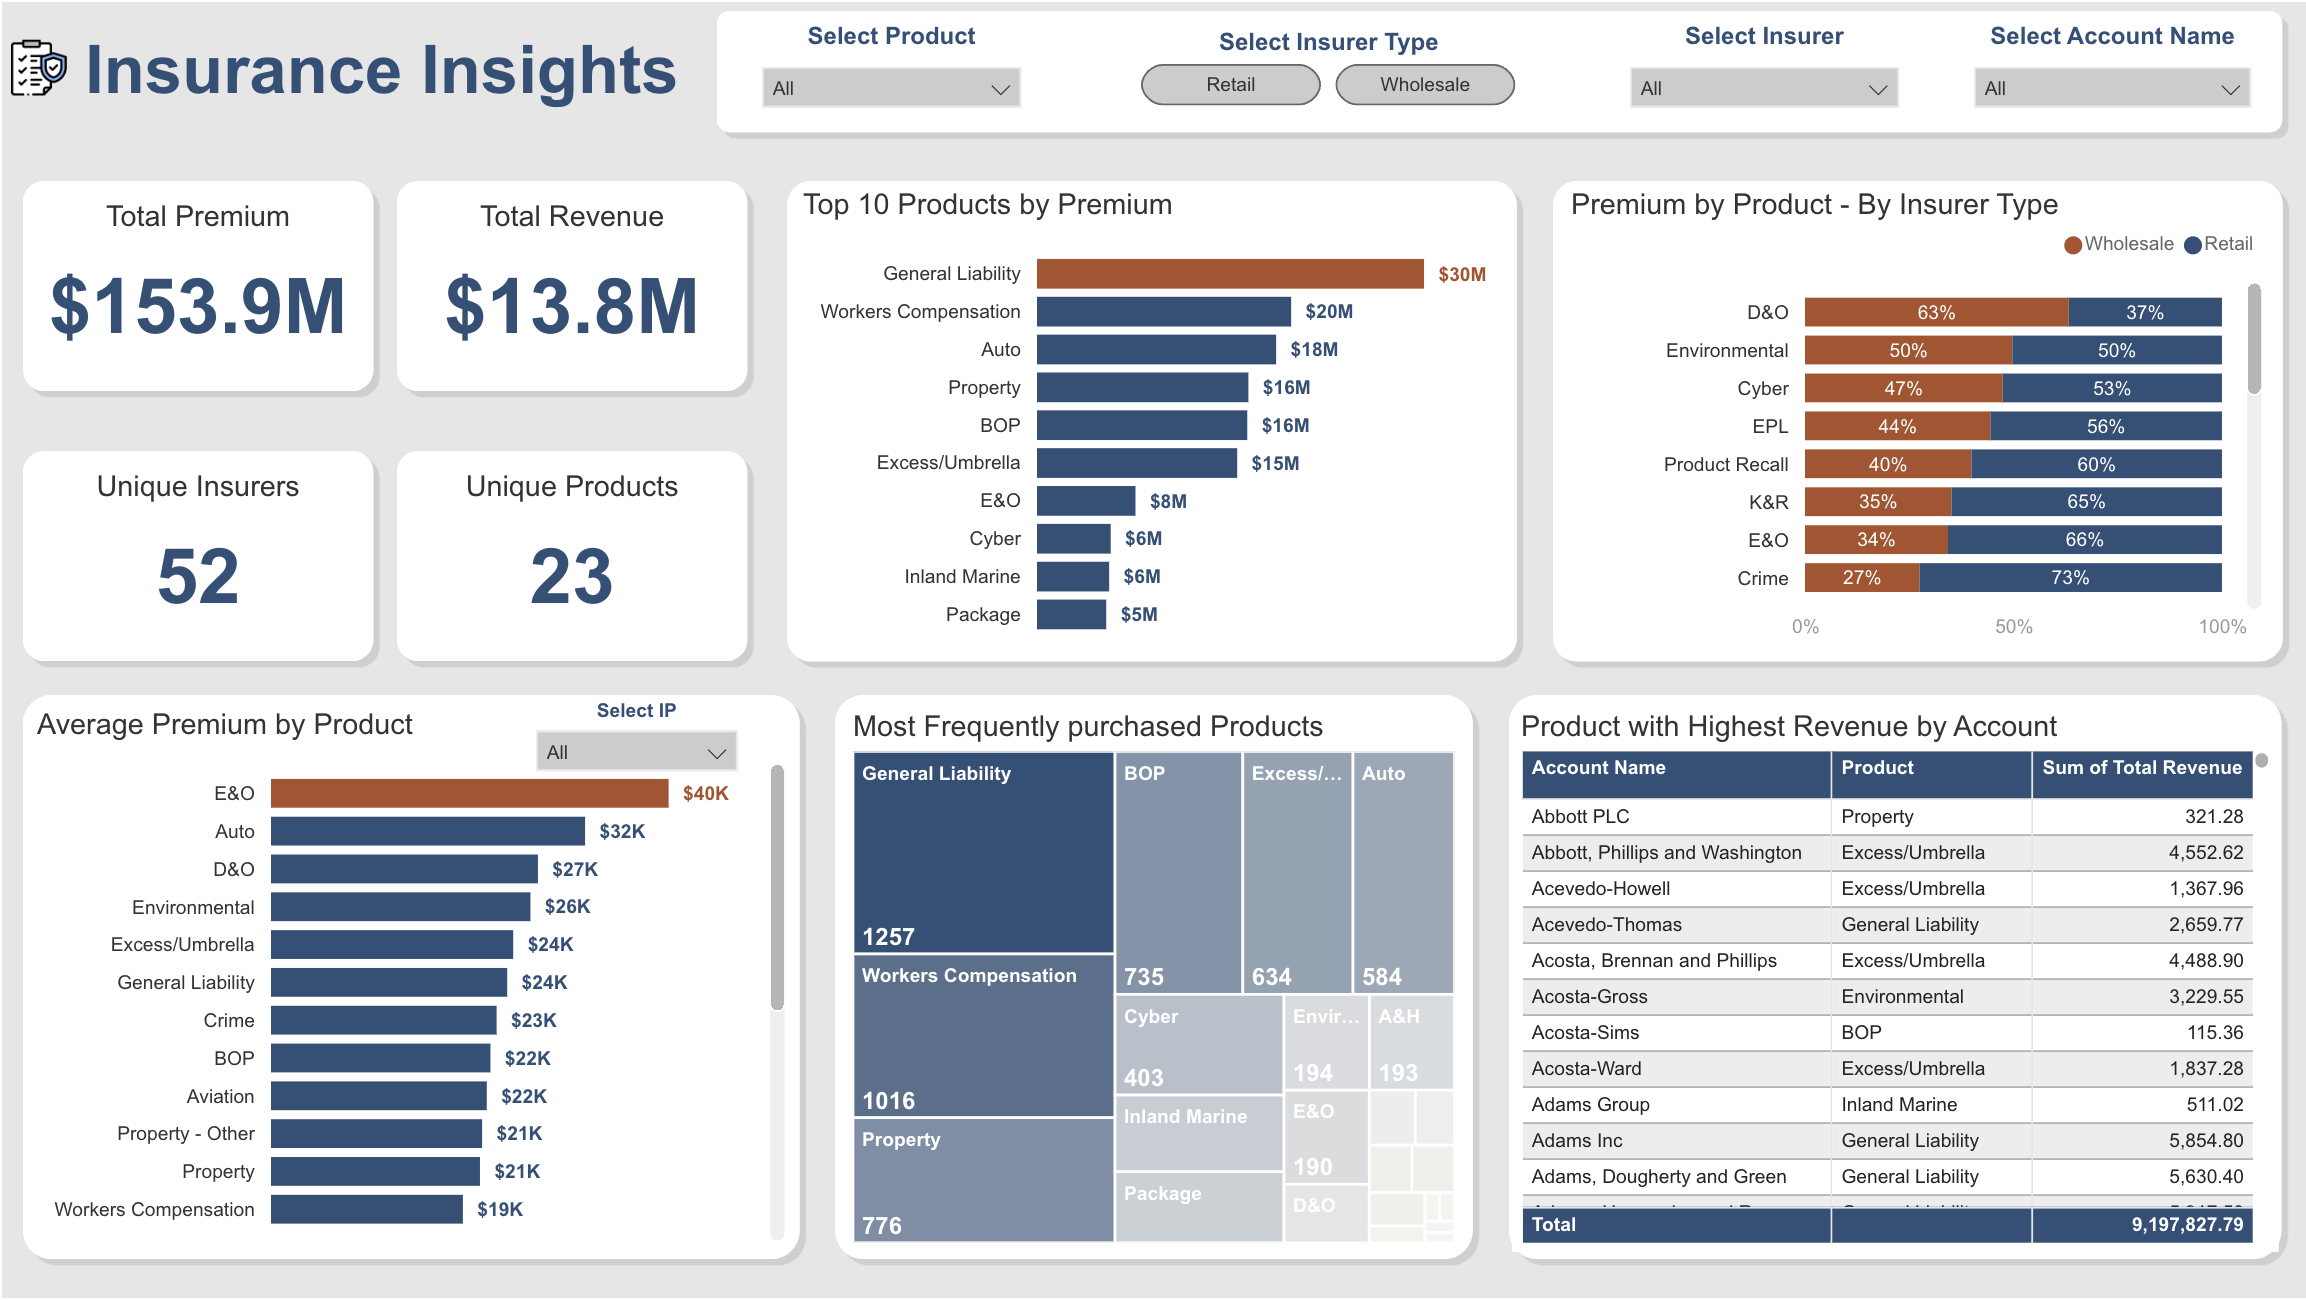

The dashboard page shown, as its layout file describes it:
{"tool":"powerbi","page":{"name":"Insurance Insights","canvas":[1280,720],"ordinal":0},"visuals":[{"type":"shape","box":[392.2,0,879.5,77.3],"z":0},{"type":"textbox","box":[41.1,10.6,354.6,56.7],"z":1000},{"type":"image","box":[0,14.9,41.1,44],"z":2000},{"type":"shape","box":[6.2,94.4,204.6,126.7],"z":3000},{"type":"shape","box":[214.2,94.4,204.6,126.7],"z":4000},{"type":"shape","box":[6.2,244.8,204.6,126.7],"z":5000},{"type":"shape","box":[214.2,244.8,204.6,126.7],"z":6000},{"type":"shape","box":[431.4,94.4,415.5,277],"z":7000},{"type":"card","title":"Total Premium ","fields":{"Values":["Dataset.Premium"]},"box":[17.3,109.7,182.3,95.3],"z":8000},{"type":"card","title":"Total Revenue","fields":{"Values":["Dataset.Revenue"]},"box":[225.4,109.7,182.3,95.3],"z":9000},{"type":"card","title":"Unique Insurers","fields":{"Values":["Dataset.Insurer"]},"box":[17.3,260.1,182.3,95.3],"z":10000},{"type":"card","title":"Unique Products","fields":{"Values":["Dataset.Product"]},"box":[225.4,260.1,182.3,95.3],"z":11000},{"type":"clusteredBarChart","title":"Top 10 Products by Premium","fields":{"Category":["Dataset.Product"],"Y":["Dataset.Premium"]},"box":[440.5,103.5,392.2,258.9],"z":12000},{"type":"advancedSlicerVisual","title":"Select Insurer Type","fields":{"Values":["Dataset.Insurer Type"]},"box":[628,14,218.7,48.7],"z":13000},{"type":"shape","box":[856.6,94.4,415.5,277],"z":14000},{"type":"hundredPercentStackedBarChart","title":"Premium by Product - By Insurer Type","fields":{"Category":["Dataset.Product"],"Series":["Dataset.Insurer Type"],"Y":["Dataset.Premium"]},"box":[866.7,103.5,393.6,258.9],"z":15000},{"type":"slicer","title":"Select Product","fields":{"Values":["Dataset.Product"]},"box":[412,10.7,164,52],"z":16000},{"type":"slicer","title":"Select Account Name","fields":{"Values":["Top Product per Account Filtered.Account Name"]},"box":[1086,10.7,174,52],"z":17000},{"type":"shape","box":[6.2,380.4,441.4,323.4],"z":18000},{"type":"shape","box":[457.6,380.4,364.2,323.4],"z":19000},{"type":"shape","box":[832.7,380.4,439.1,323.4],"z":20000},{"type":"clusteredBarChart","title":"Average Premium by Product","fields":{"Category":["Dataset.Product"],"Y":["Dataset.Premium"]},"box":[14,392.7,425.3,300.7],"z":21000},{"type":"tableEx","title":"Product with Highest Revenue by Account","fields":{"Values":["Top Product per Account Filtered.Account Name","Top Product per Account Filtered.Product","Top Product per Account Filtered.Total Revenue"]},"box":[838.9,392.8,426,301],"z":22000},{"type":"slicer","title":"Select IP","fields":{"Values":["Dataset.Industry Practice"]},"box":[286.7,387.3,132,42.7],"z":23000},{"type":"treemap","title":"Most Frequently purchased Products","fields":{"Group":["Dataset.Product"],"Values":["Dataset.Count of Policies"]},"box":[467.7,392.8,344.2,301],"z":24000},{"type":"slicer","title":"Select Insurer","fields":{"Values":["Top Product per Account Filtered.Insurer"]},"box":[894,10.7,169.3,52],"z":24001}]}

Visuals, with their boxes in screenshot pixels (x1, y1, x2, y2), scaled from the page's 1280x720 canvas onto the 2306x1300 screenshot:
shape: <region>707, 0, 2291, 140</region>
textbox: <region>74, 19, 713, 122</region>
image: <region>0, 27, 74, 106</region>
shape: <region>11, 170, 380, 399</region>
shape: <region>386, 170, 754, 399</region>
shape: <region>11, 442, 380, 671</region>
shape: <region>386, 442, 754, 671</region>
shape: <region>777, 170, 1526, 671</region>
"Total Premium " card: <region>31, 198, 360, 370</region>
"Total Revenue" card: <region>406, 198, 734, 370</region>
"Unique Insurers" card: <region>31, 470, 360, 642</region>
"Unique Products" card: <region>406, 470, 734, 642</region>
"Top 10 Products by Premium" clusteredBarChart: <region>794, 187, 1500, 654</region>
"Select Insurer Type" advancedSlicerVisual: <region>1131, 25, 1525, 113</region>
shape: <region>1543, 170, 2292, 671</region>
"Premium by Product - By Insurer Type" hundredPercentStackedBarChart: <region>1561, 187, 2271, 654</region>
"Select Product" slicer: <region>742, 19, 1038, 113</region>
"Select Account Name" slicer: <region>1956, 19, 2270, 113</region>
shape: <region>11, 687, 806, 1271</region>
shape: <region>824, 687, 1481, 1271</region>
shape: <region>1500, 687, 2291, 1271</region>
"Average Premium by Product" clusteredBarChart: <region>25, 709, 791, 1252</region>
"Product with Highest Revenue by Account" tableEx: <region>1511, 709, 2279, 1253</region>
"Select IP" slicer: <region>517, 699, 754, 776</region>
"Most Frequently purchased Products" treemap: <region>843, 709, 1463, 1253</region>
"Select Insurer" slicer: <region>1611, 19, 1916, 113</region>
